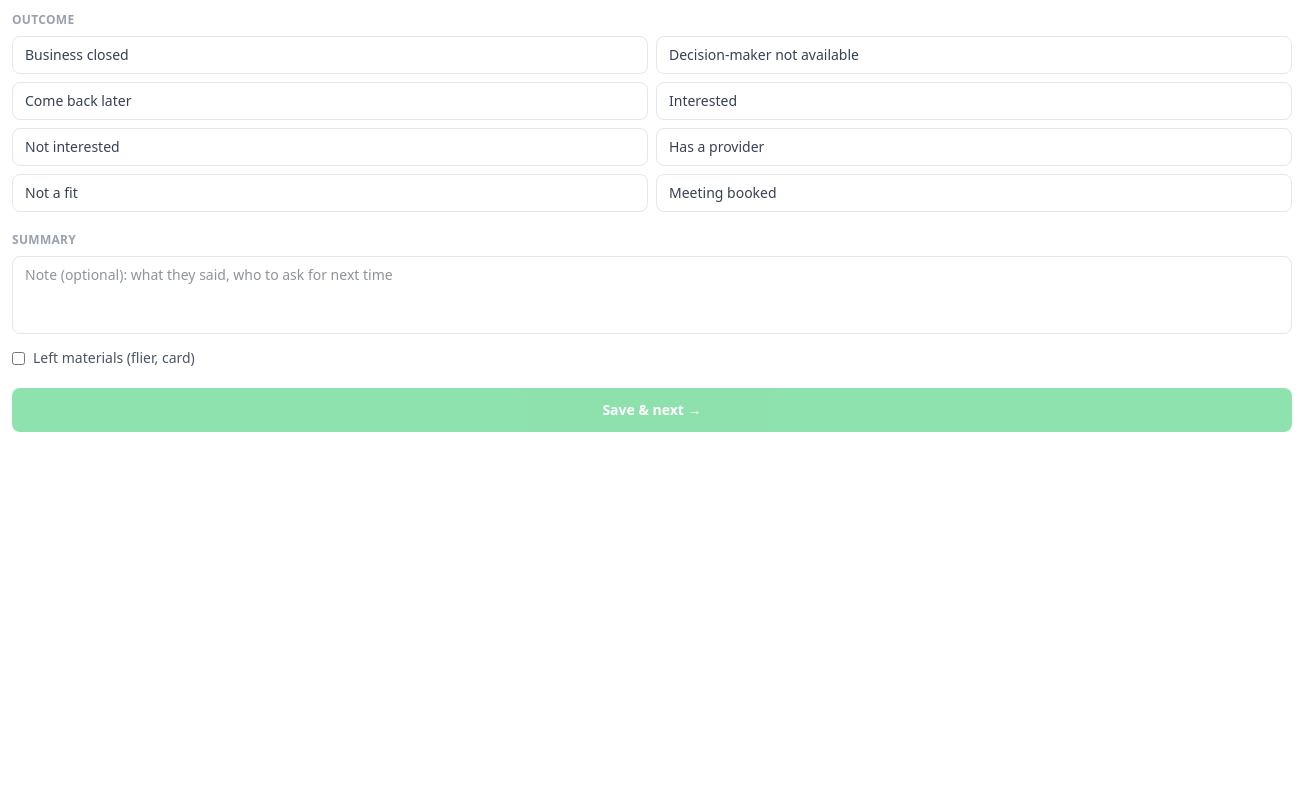
Test: LogVisitForm: going back › offers a time to go back with Come back later
Step 1. Click the button "Come back later" → coordinates (78, 100), box [12, 82, 648, 120]
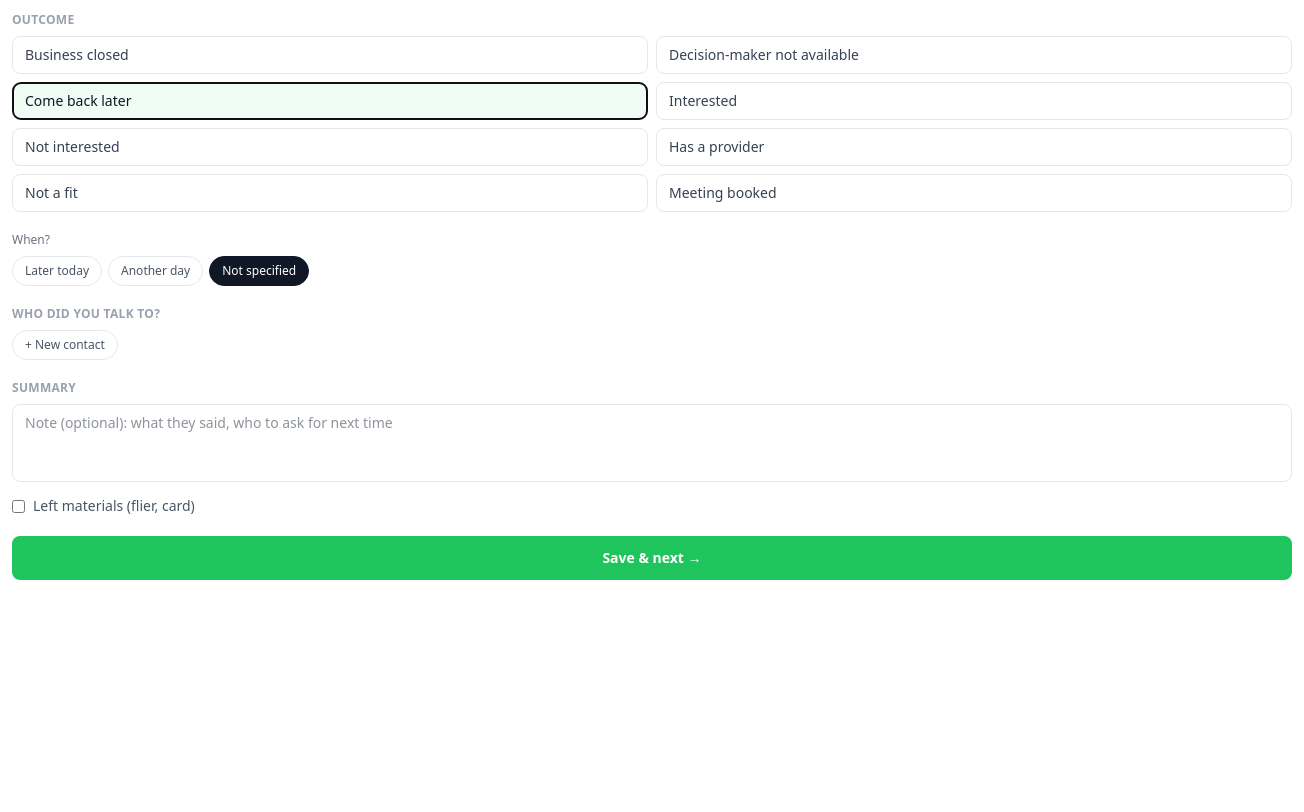
expect the text "When?" is shown: met, box [12, 231, 50, 248]
expect the button "Later today" is shown: met, box [12, 256, 102, 286]
